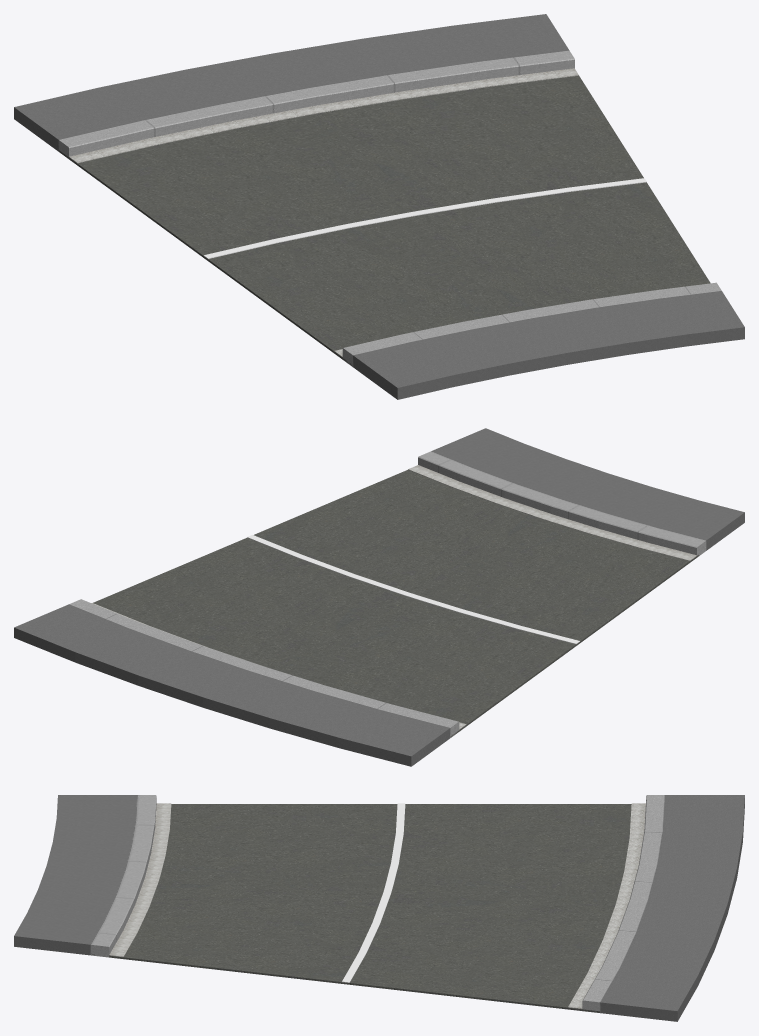
File: routeCourbe2VoiesAvecTrottoirs6.5m.obj
3 views of the same model, one above another, from view 1: azimuth 30°, elevation 25°; view 2: azimuth 150°, elevation 25°; view 3: azimuth 270°, elevation 25° (orthographic). The views are drawn at different scales.
Parts seen in each view (by area): view 1: roadCourbe2VoiesAvecTrottoirs6-5m_Plane.044; view 2: roadCourbe2VoiesAvecTrottoirs6-5m_Plane.044; view 3: roadCourbe2VoiesAvecTrottoirs6-5m_Plane.044.
Part boxes in pixels (<box>): roadCourbe2VoiesAvecTrottoirs6-5m_Plane.044: <box>14,14,744,399</box>; roadCourbe2VoiesAvecTrottoirs6-5m_Plane.044: <box>14,428,744,766</box>; roadCourbe2VoiesAvecTrottoirs6-5m_Plane.044: <box>14,795,744,1021</box>.
Size of the model in its own units: 778 by 18 by 1112.
